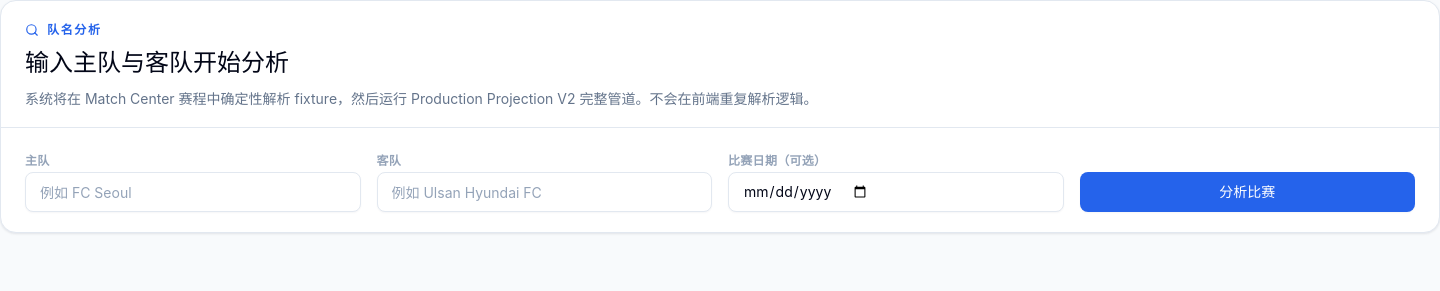
Test: AnalyzeByTeamsSection › shows loading state while analysis is pending
In the field labelled "主队": coordinates (193, 192) [25,172,360,212], type "FC Seoul"
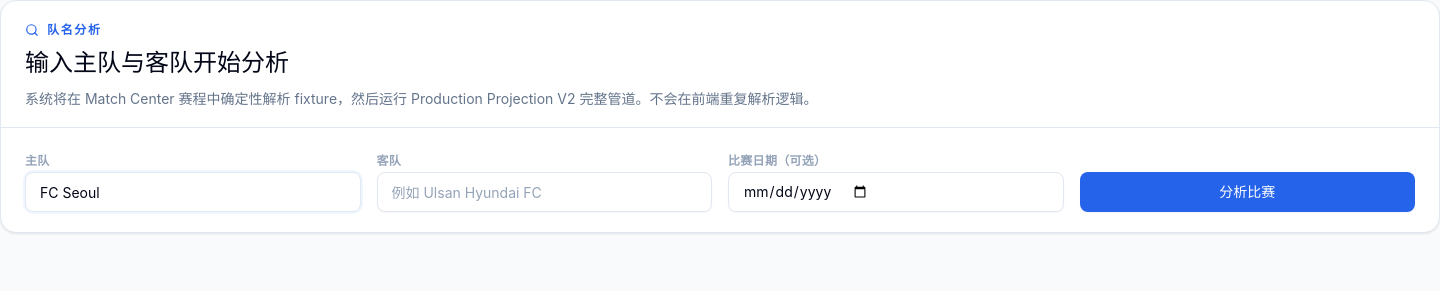
In the field labelled "客队": coordinates (544, 192) [376,172,712,212], type "Ulsan"
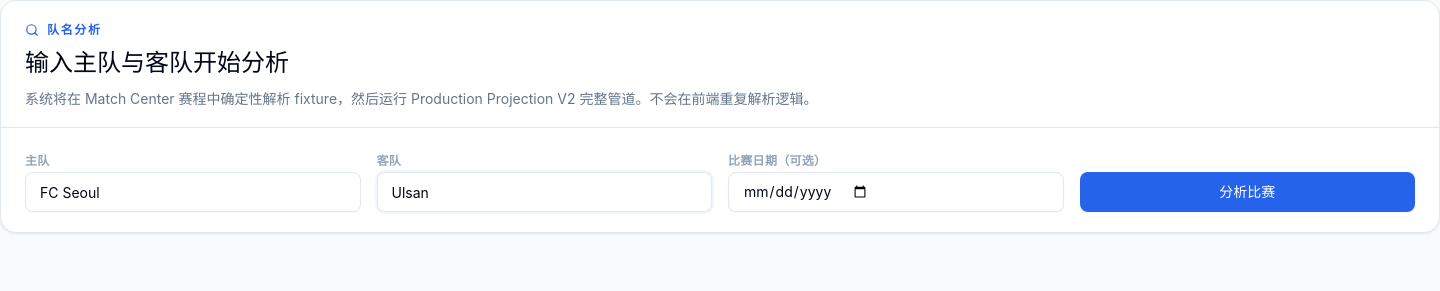
Click the button "分析比赛": coordinates (1247, 192) [1080,172,1415,212]
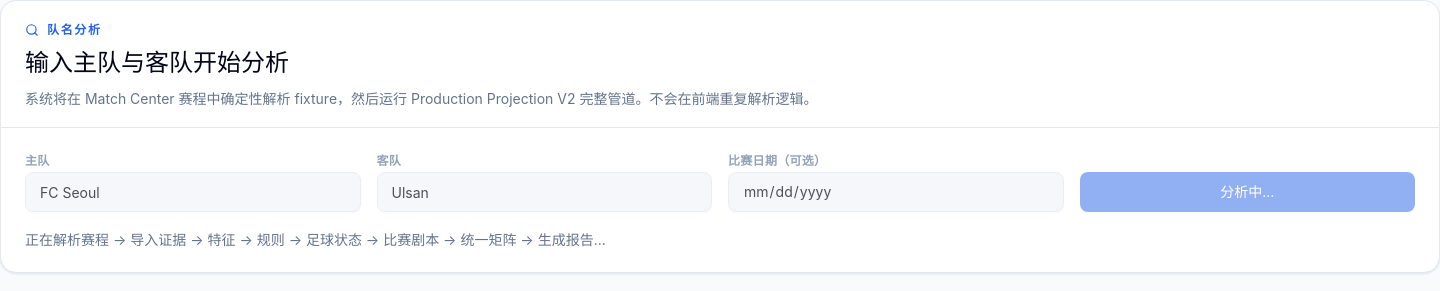
Now the text "正在解析赛程 → 导入证据 → 特征 → 规则 → 足球状态 → 比赛剧本 → 统一矩阵 → 生成报告…" is shown, box [25,231,606,248]
Now the button "分析中…" is disabled, box [1080,172,1415,212]
